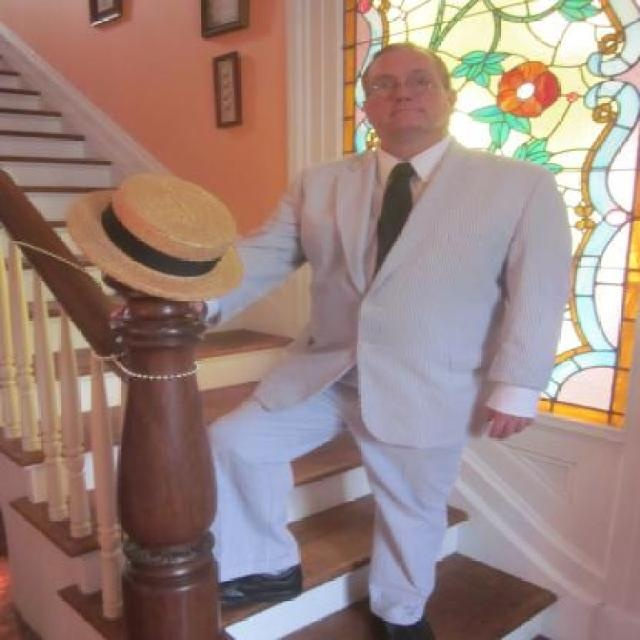stair: (0, 54, 562, 640)
